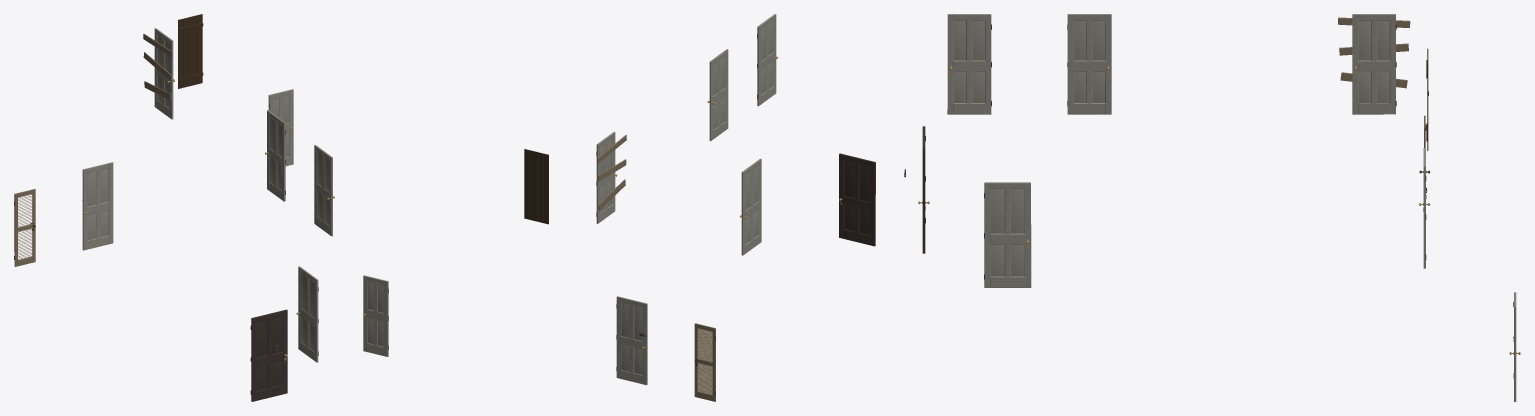
File: doors.glb
3 views of the same model, side by side, from view 1: azimuth 30°, elevation 25°; view 2: azimuth 150°, elevation 25°; view 3: azimuth 270°, elevation 25° (orthographic). The views are drawn at different scales.
Parts seen in each view (by area): view 1: door_D_FRONT, door_D_PASSAGE, door_D_PARLOR, door_D_WARDROBE_BACK, door_D_HARLAN, door_D_DRESSING, door_D_CLOSET, door_D_ADA, door_D_BACKSTAIR; view 2: door_D_FRONT, door_D_PASSAGE, door_D_BACKSTAIR, door_D_PARLOR, door_D_WARDROBE_BACK, door_D_CLOSET, door_D_DRESSING, door_D_HARLAN, door_D_ADA; view 3: door_D_PARLOR, door_D_DRESSING, door_D_HARLAN, door_D_ADA.
Part boxes in pixels (<box>): door_D_FRONT: <box>250,309,287,401</box>; door_D_PASSAGE: <box>82,162,113,250</box>; door_D_PARLOR: <box>296,266,318,362</box>; door_D_WARDROBE_BACK: <box>178,14,203,88</box>; door_D_HARLAN: <box>265,110,285,201</box>; door_D_DRESSING: <box>314,145,334,236</box>; door_D_CLOSET: <box>14,189,35,266</box>; door_D_ADA: <box>154,28,174,119</box>; door_D_BACKSTAIR: <box>268,89,293,166</box>; door_D_FRONT: <box>839,153,875,246</box>; door_D_PASSAGE: <box>616,296,647,385</box>; door_D_BACKSTAIR: <box>363,275,388,356</box>; door_D_PARLOR: <box>740,158,761,255</box>; door_D_WARDROBE_BACK: <box>524,149,548,224</box>; door_D_CLOSET: <box>694,323,715,401</box>; door_D_DRESSING: <box>757,14,777,106</box>; door_D_HARLAN: <box>707,49,728,140</box>; door_D_ADA: <box>596,131,617,223</box>; door_D_PARLOR: <box>984,182,1031,287</box>; door_D_DRESSING: <box>947,14,991,114</box>; door_D_HARLAN: <box>1067,14,1111,114</box>; door_D_ADA: <box>1352,14,1396,114</box>.
Bounding box in the file's own units: 8.41 × 5.51 × 11.27.
